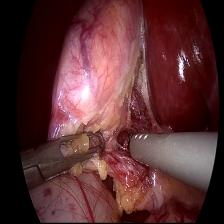Grasper: (25, 127, 108, 181)
Irrigator: (126, 125, 167, 171)
